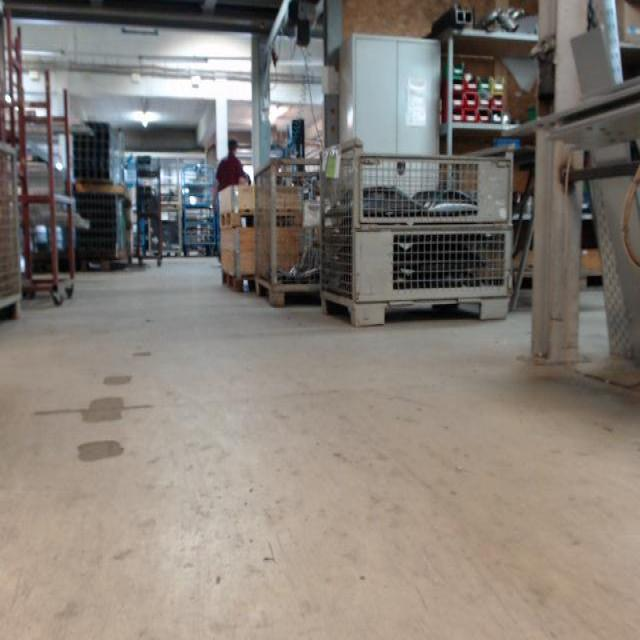pallet: (218, 207, 304, 234), (220, 269, 258, 295)
stillage: (319, 143, 516, 325), (253, 154, 325, 307), (0, 141, 26, 317), (149, 210, 186, 257)
